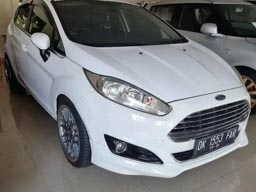plat: (198, 127, 238, 152)
